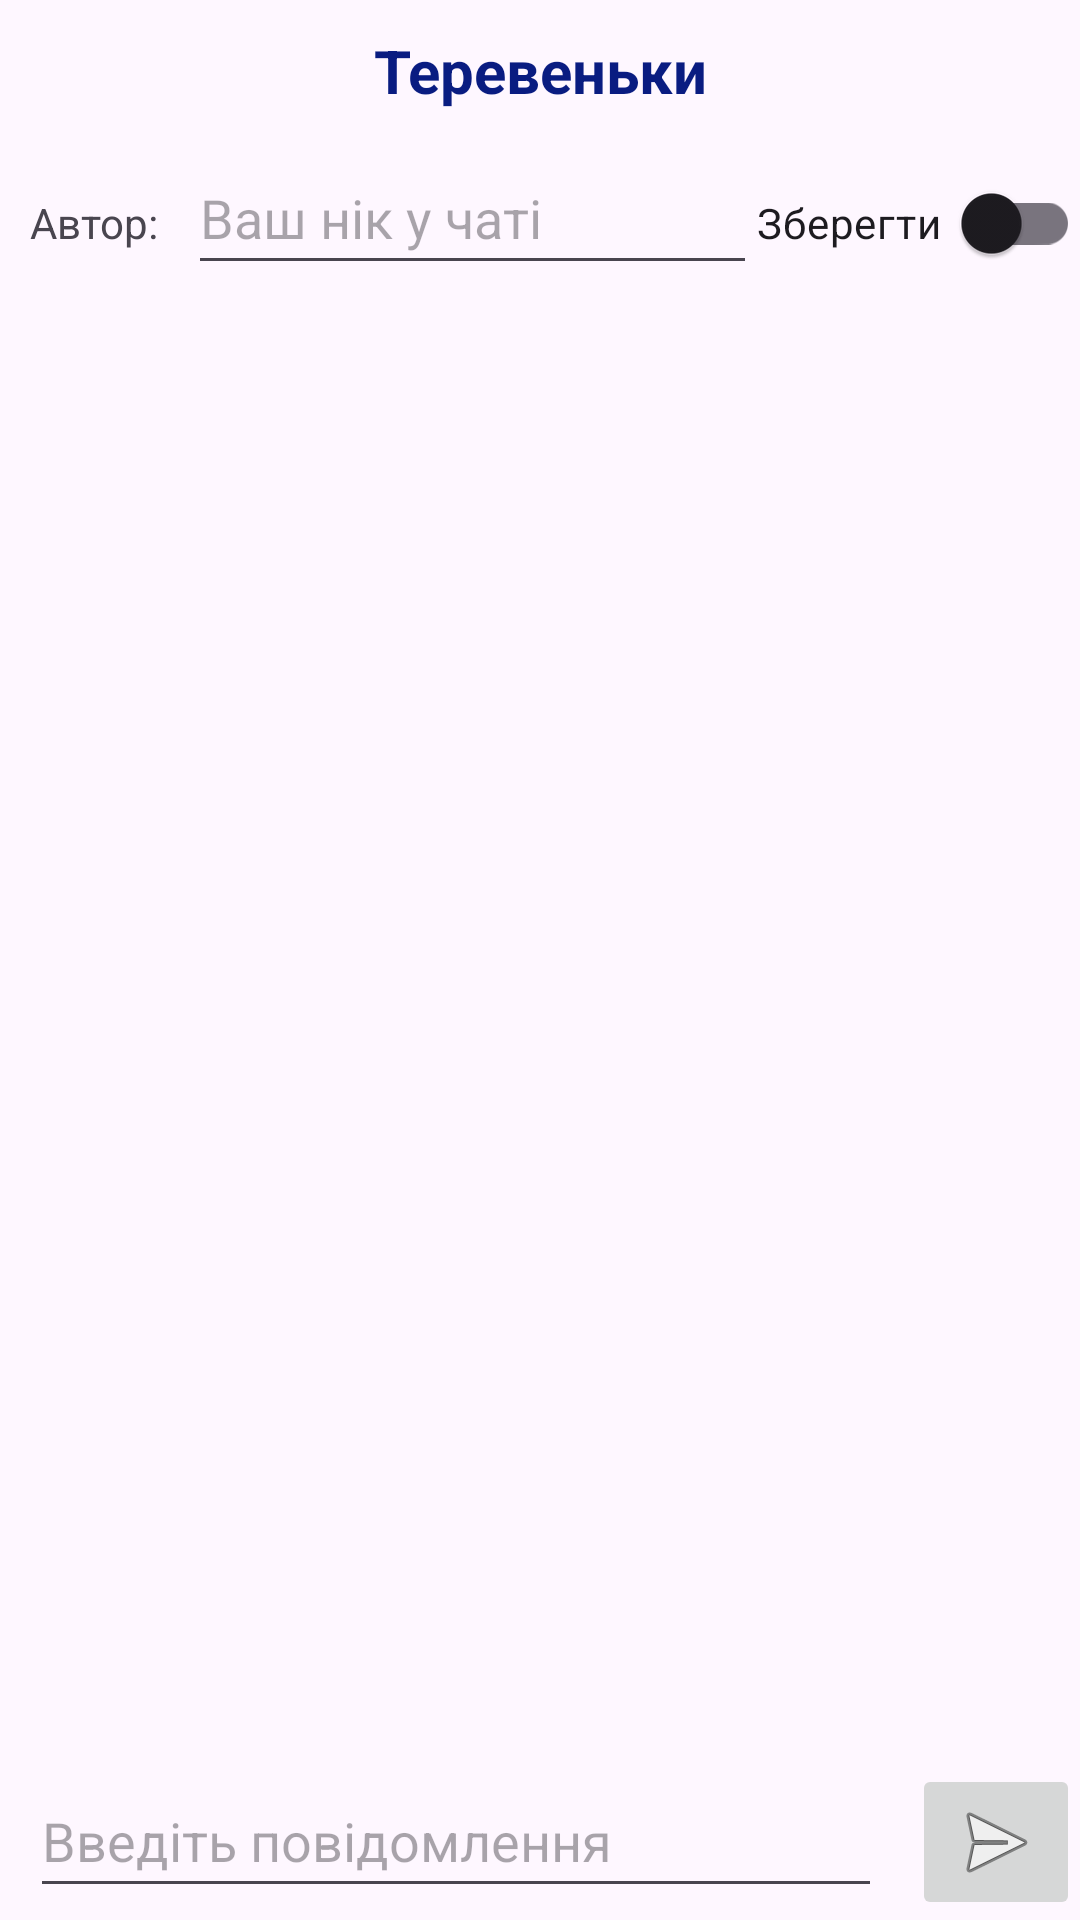

Icon click points for this 1080 × 1920 phone screenshot, format (x,y):
Надіслати повідомлення: (996,1842)
